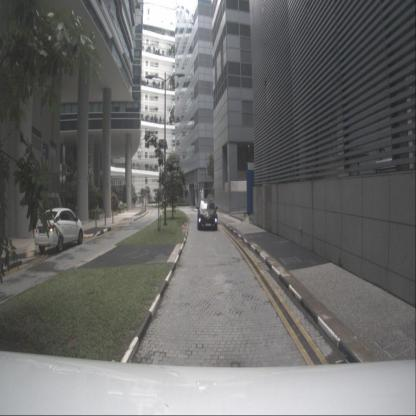vehicle-car: (34, 207, 84, 252), (197, 199, 218, 230)
